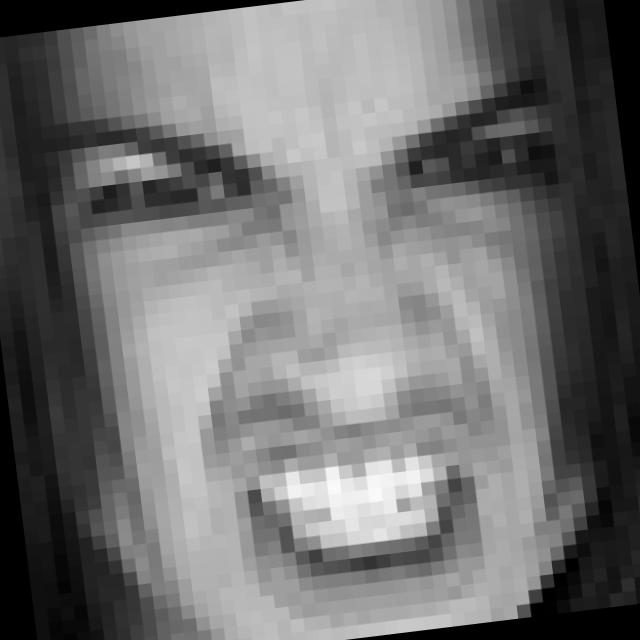angry: (67, 62, 616, 640)
